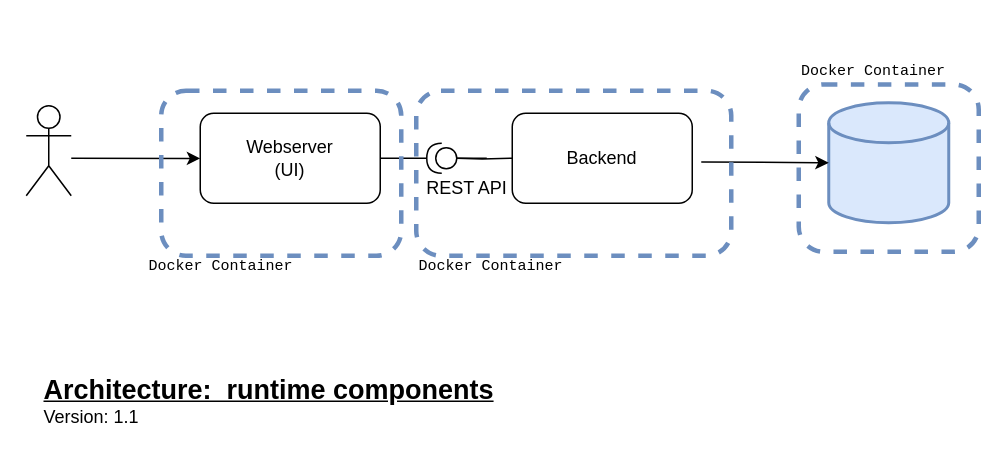
This 1007x473 diagram has some shape labels left out. Here are the shapes that lost their labels. From the top down, the centre of each, then its label:
At pixel 48 150: "Actor".
At pixel 888 162: "ProjectDB".
